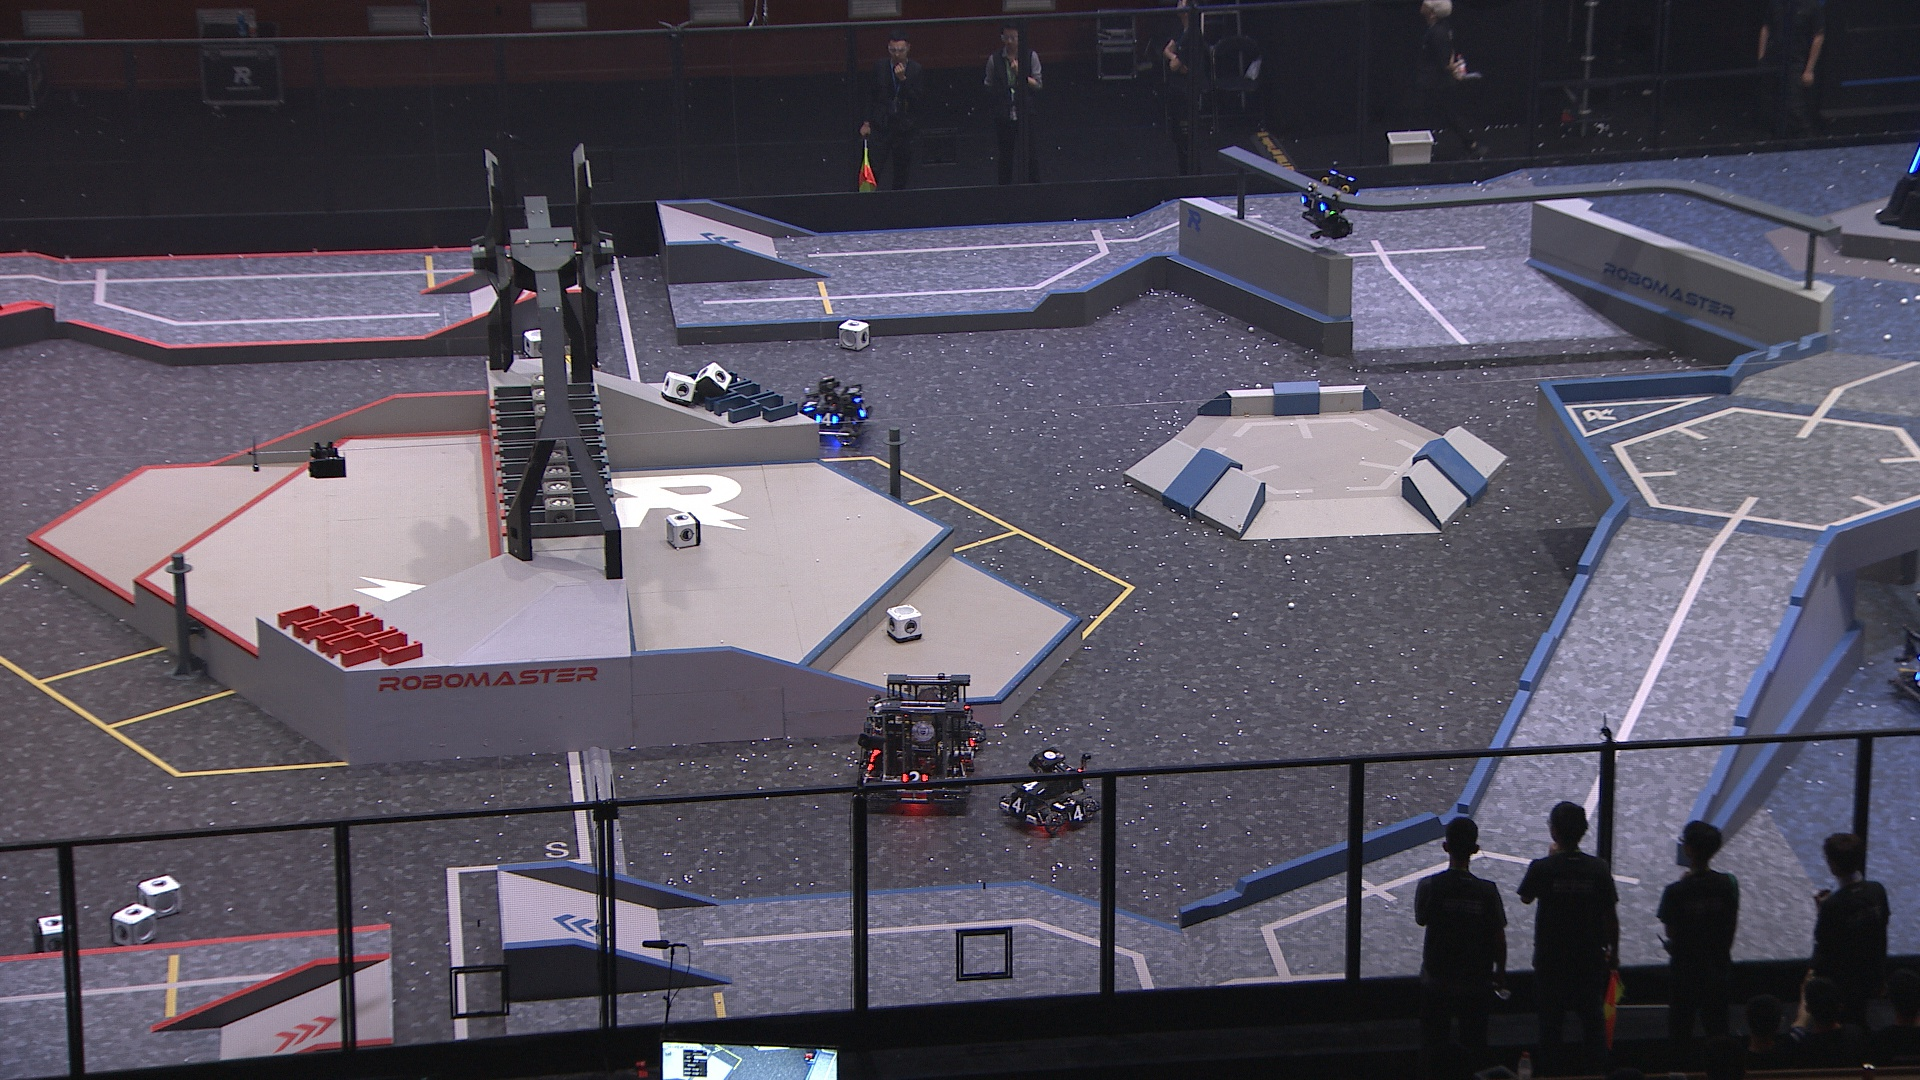armor: (1300, 191, 1331, 214), (1064, 800, 1091, 825), (1021, 778, 1054, 796), (899, 769, 930, 787), (1007, 794, 1029, 815), (814, 411, 839, 429), (1909, 142, 1920, 173), (802, 396, 818, 415), (858, 398, 872, 419)
base: (1866, 119, 1920, 232)
car: (858, 670, 988, 822), (997, 741, 1097, 836), (794, 371, 876, 448), (1890, 582, 1920, 712)
watcher: (1298, 158, 1364, 243)
